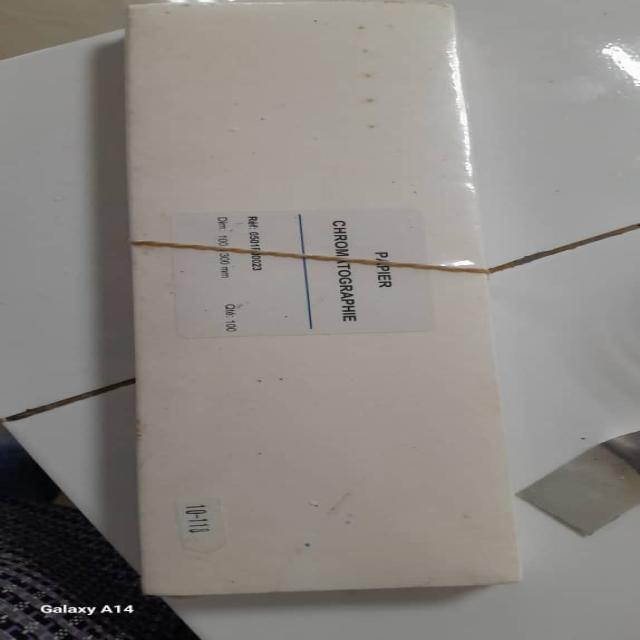Paper Chromatography: (138, 5, 498, 593)
